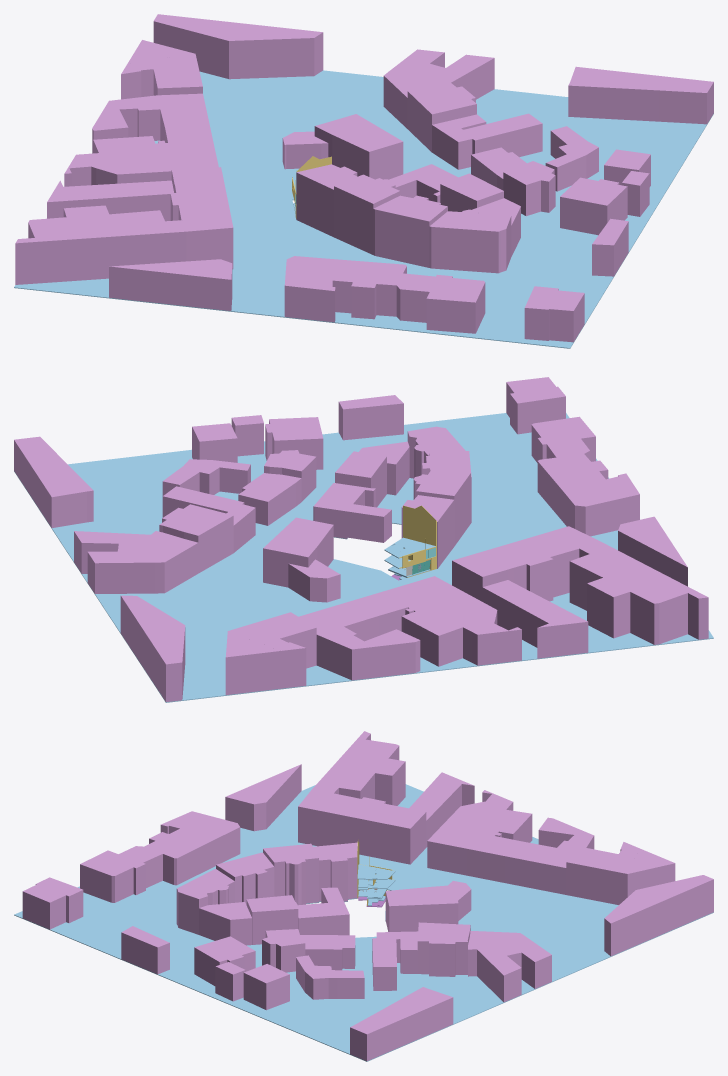
The picture shows the model from 3 angles, top to bottom: view 1: azimuth 30°, elevation 25°; view 2: azimuth 150°, elevation 25°; view 3: azimuth 270°, elevation 25°; orthographic projection. The views are drawn at different scales.
Visible parts, largest first — view 1: 21459, 21464; view 2: 21459, 21464, 5076; view 3: 21459, 21464.
Part boxes in pixels (x1=…): 21459: x1=15, y1=14, x2=713, y2=342; 21464: x1=14, y1=70, x2=713, y2=348; 21459: x1=14, y1=377, x2=708, y2=701; 21464: x1=14, y1=413, x2=713, y2=702; 5076: x1=399, y1=505, x2=436, y2=577; 21459: x1=22, y1=731, x2=713, y2=1060; 21464: x1=14, y1=784, x2=713, y2=1061.
Size of the model in its own units: 212 by 20.05 by 212.
